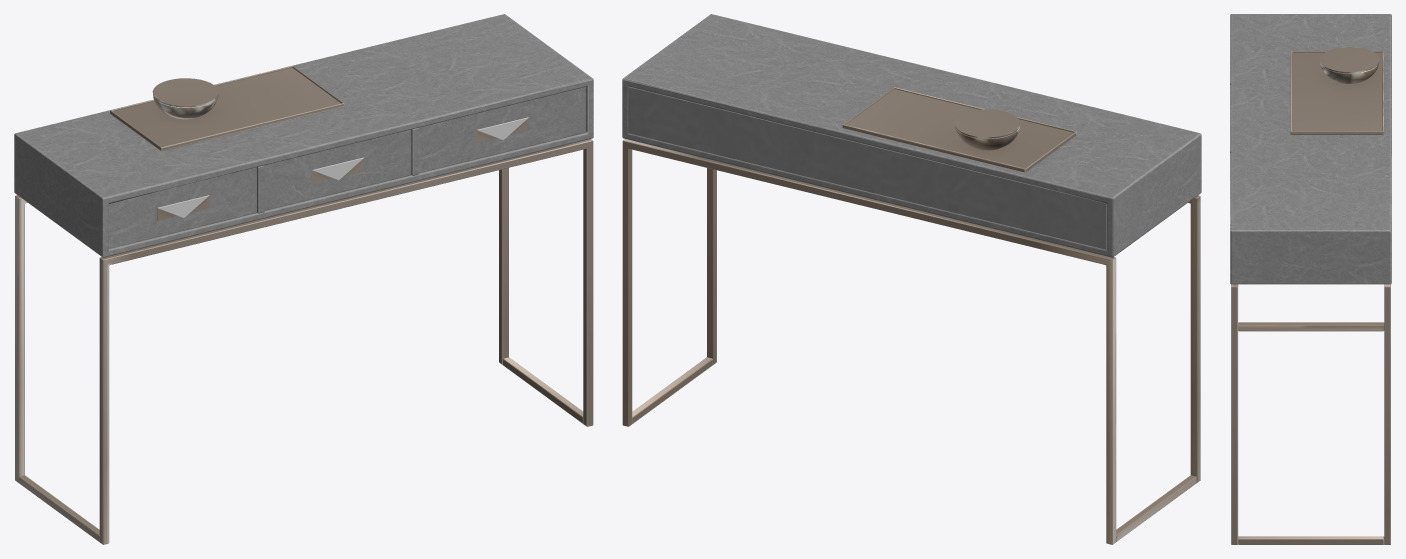
Rendered from raw_model.obj.
3 renders of one model, left to right at view 1: azimuth 30°, elevation 25°; view 2: azimuth 150°, elevation 25°; view 3: azimuth 270°, elevation 25°, orthographic. The views are drawn at different scales.
Visible parts, largest first — view 1: solid_003, solid_001, solid_004; view 2: solid_003, solid_001; view 3: solid_003, solid_001.
Boxes of the visible parts, x1=… form: solid_003: x1=14, y1=14, x2=593, y2=257; solid_001: x1=15, y1=66, x2=593, y2=544; solid_004: x1=158, y1=117, x2=528, y2=217; solid_003: x1=622, y1=14, x2=1201, y2=257; solid_001: x1=622, y1=87, x2=1200, y2=544; solid_003: x1=1230, y1=14, x2=1391, y2=284; solid_001: x1=1231, y1=47, x2=1390, y2=544.
Bounding box in the file's own units: 1.11 × 0.8493 × 0.3504.
1 material, 1 textured.
